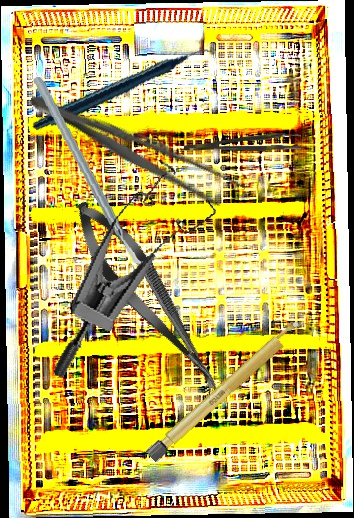Chopper: (32, 68, 153, 278)
Dressing Forceps: (23, 82, 249, 215)
Handpiece: (31, 17, 217, 163)
Micro Scissor: (61, 190, 237, 407)
Scalpel Handle: (145, 317, 305, 463)
Speculum: (49, 146, 227, 407)
Tissue Forceps: (183, 132, 302, 153)
